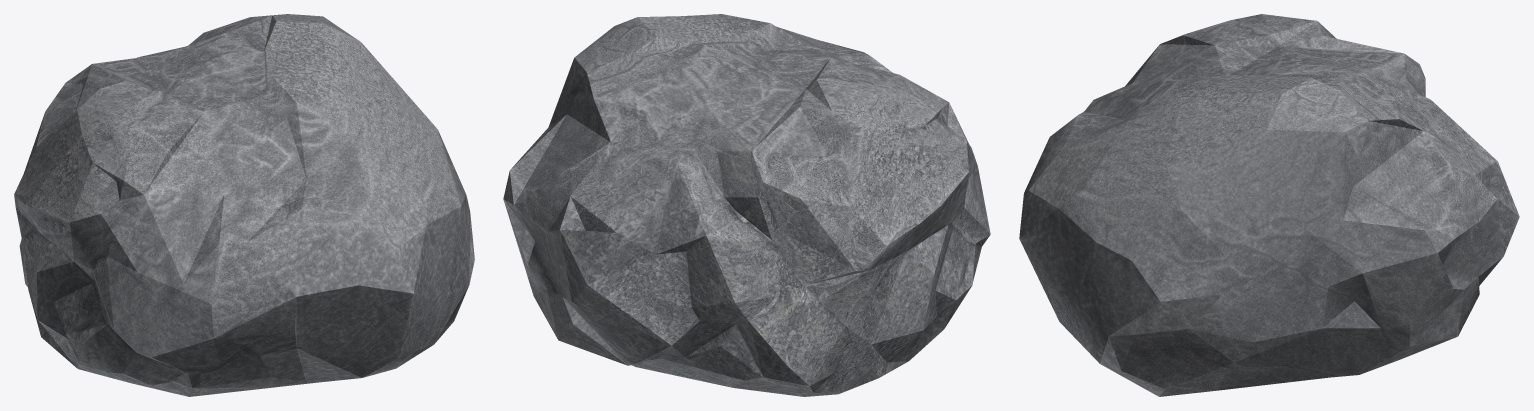
The model's file is stone.glb.
The picture shows the model from 3 angles, left to right: view 1: azimuth 30°, elevation 25°; view 2: azimuth 150°, elevation 25°; view 3: azimuth 270°, elevation 25°; orthographic projection. The views are drawn at different scales.
Visible parts, largest first — view 1: output_unwrapped; view 2: output_unwrapped; view 3: output_unwrapped.
Boxes of the visible parts, x1=… form: output_unwrapped: x1=14, y1=14, x2=474, y2=396; output_unwrapped: x1=503, y1=14, x2=990, y2=396; output_unwrapped: x1=1019, y1=14, x2=1519, y2=396.
Size of the model in its own units: 1.68 by 1.23 by 1.9.
Materials: 1 (1 with a texture image).
